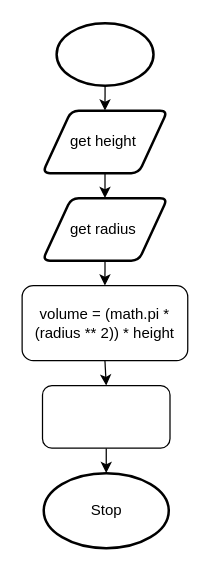
Some shapes in this 210 by 570 pixel diagram are drawn without their labels. The centre of each missing label's shape, as x and y in pixels:
return volume: the point at 105,416
start: the point at 104,53
